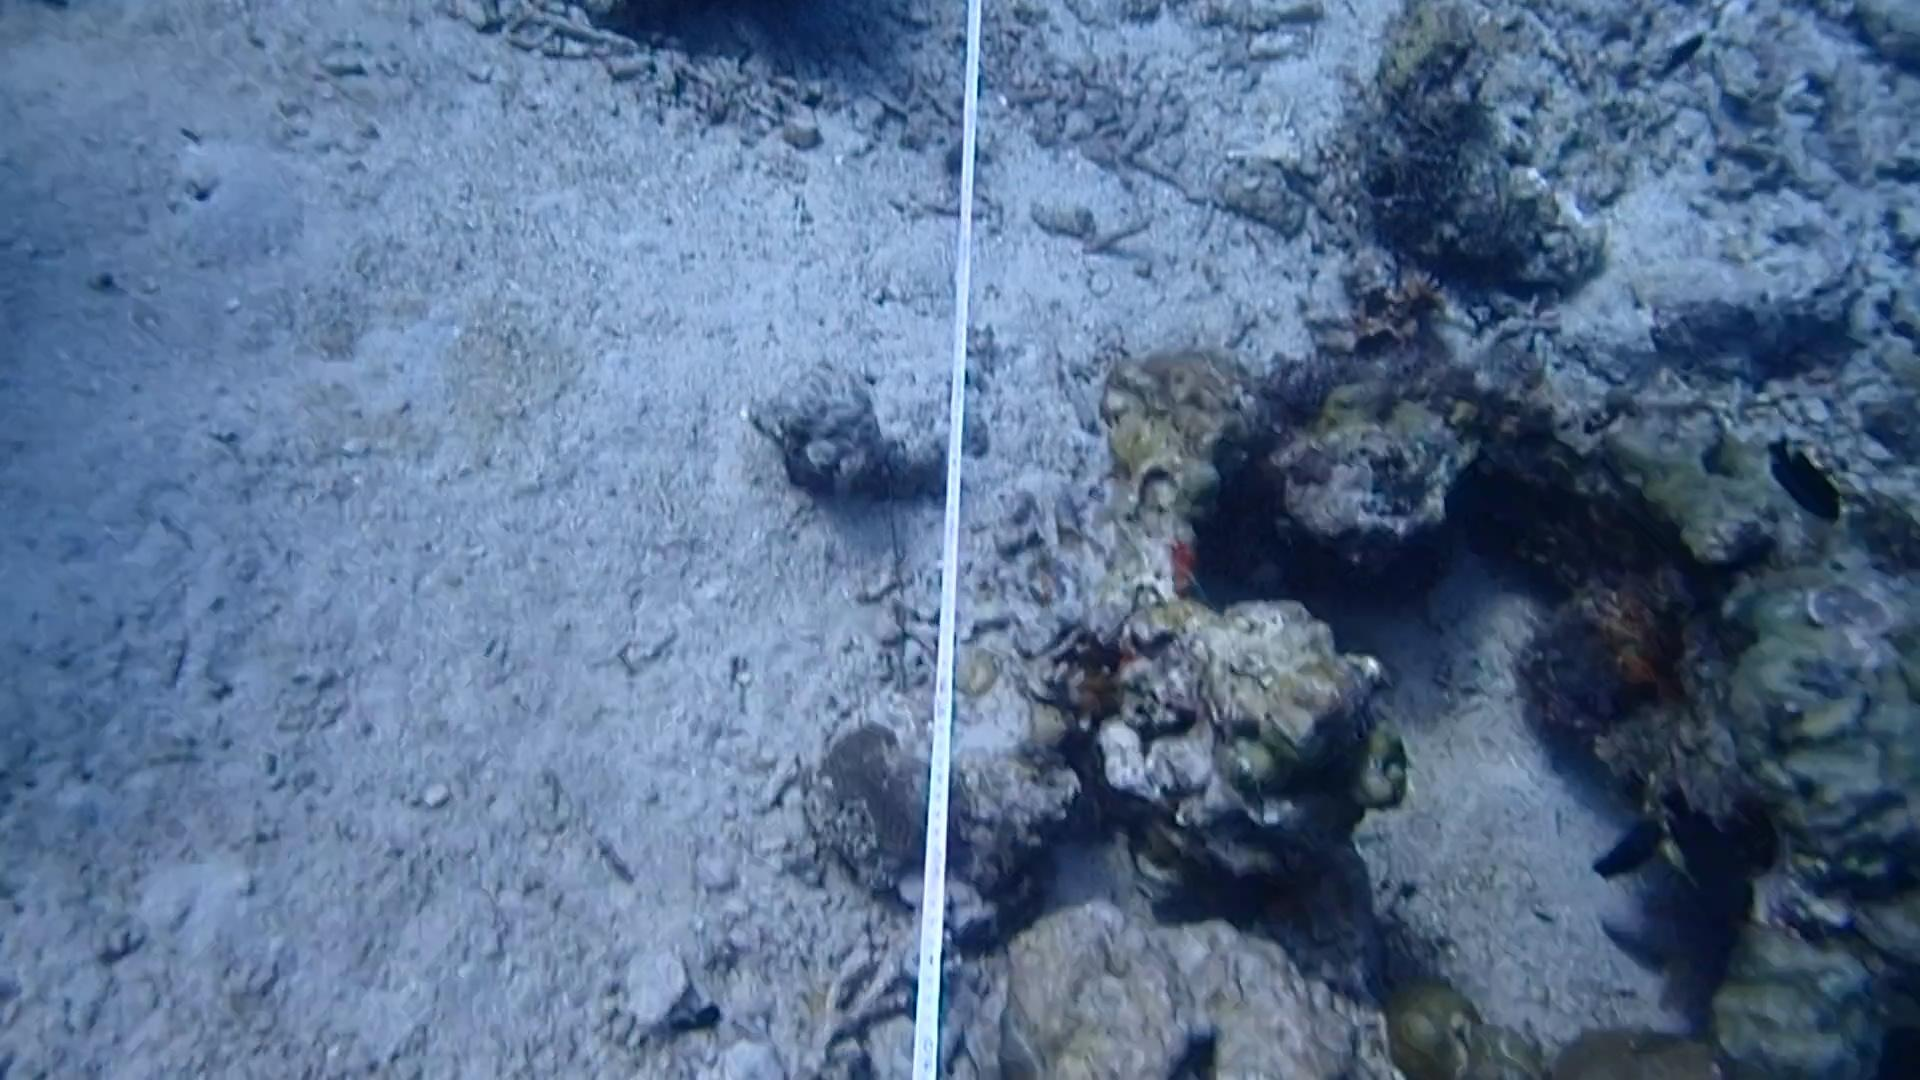Dark Fish: (1660, 779, 1770, 931), (1746, 423, 1842, 531), (1563, 803, 1677, 890), (1644, 26, 1709, 79)
